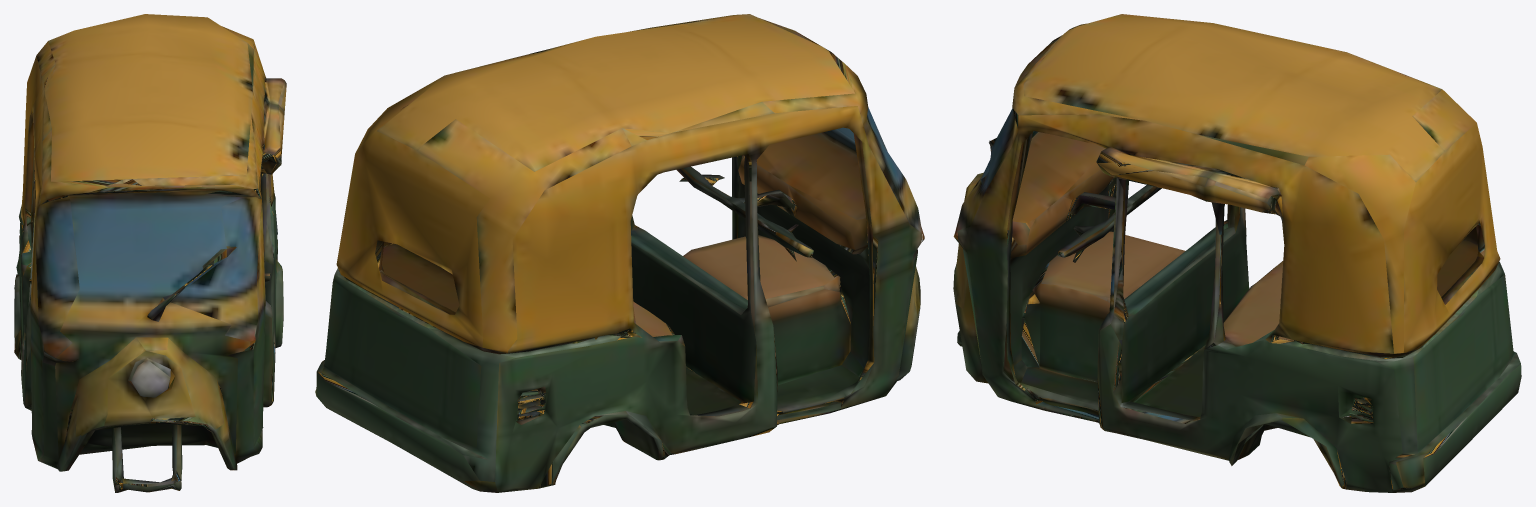
The model's file is auto.glb.
The picture shows the model from 3 angles, left to right: view 1: azimuth 30°, elevation 25°; view 2: azimuth 150°, elevation 25°; view 3: azimuth 270°, elevation 25°; orthographic projection. The views are drawn at different scales.
Parts seen in each view (by area): view 1: tripo_node_be0e12e1; view 2: tripo_node_be0e12e1; view 3: tripo_node_be0e12e1.
Boxes of the visible parts, x1,y1,x2,y2 form: tripo_node_be0e12e1: (14,14,286,492); tripo_node_be0e12e1: (315,14,924,492); tripo_node_be0e12e1: (953,14,1521,492).
Size of the model in its own units: 85.01 by 63.67 by 97.58.
Materials: 1 (1 with a texture image).
